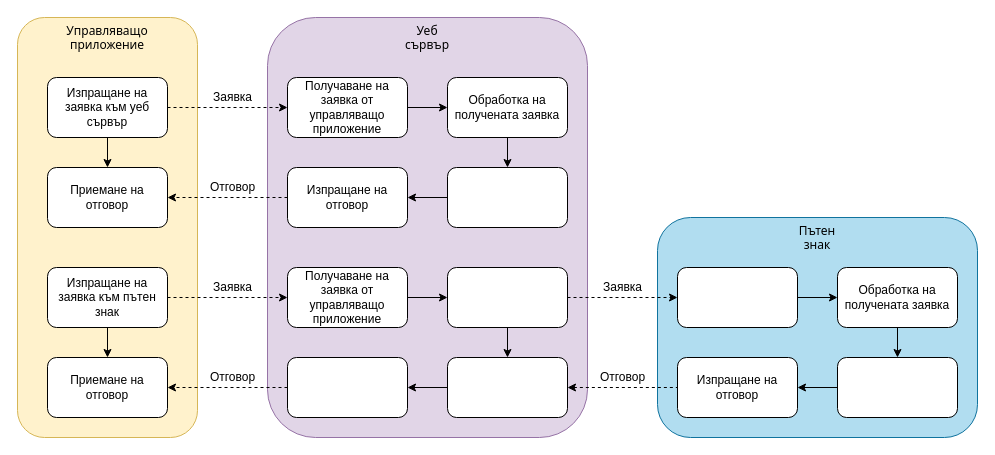
Image size: 995x455. Some labels were removed from this diagram. The centre of each missing label's shape, as x and y in pixels:
"Достъпване / промяна на нужните ресурси" belongs at point (897, 387).
"Достъпване на нужните ресурси" belongs at point (507, 197).
"Получаване на заявка от уеб сървър" belongs at point (737, 297).
"Получаване на отговор от пътен знак" belongs at point (507, 387).
"Препращане на заявка към пътен знак" belongs at point (507, 297).
"Препращане на отговор към управляващо приложение" belongs at point (347, 387).
